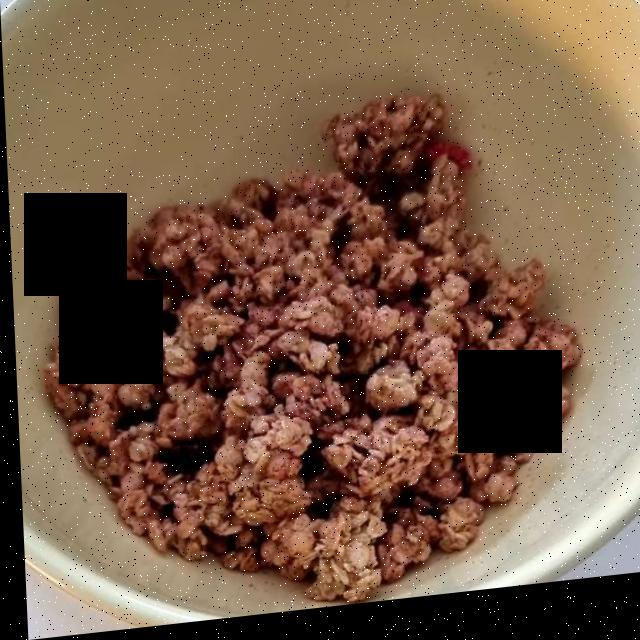crunch-muesli: (63, 110, 554, 596)
